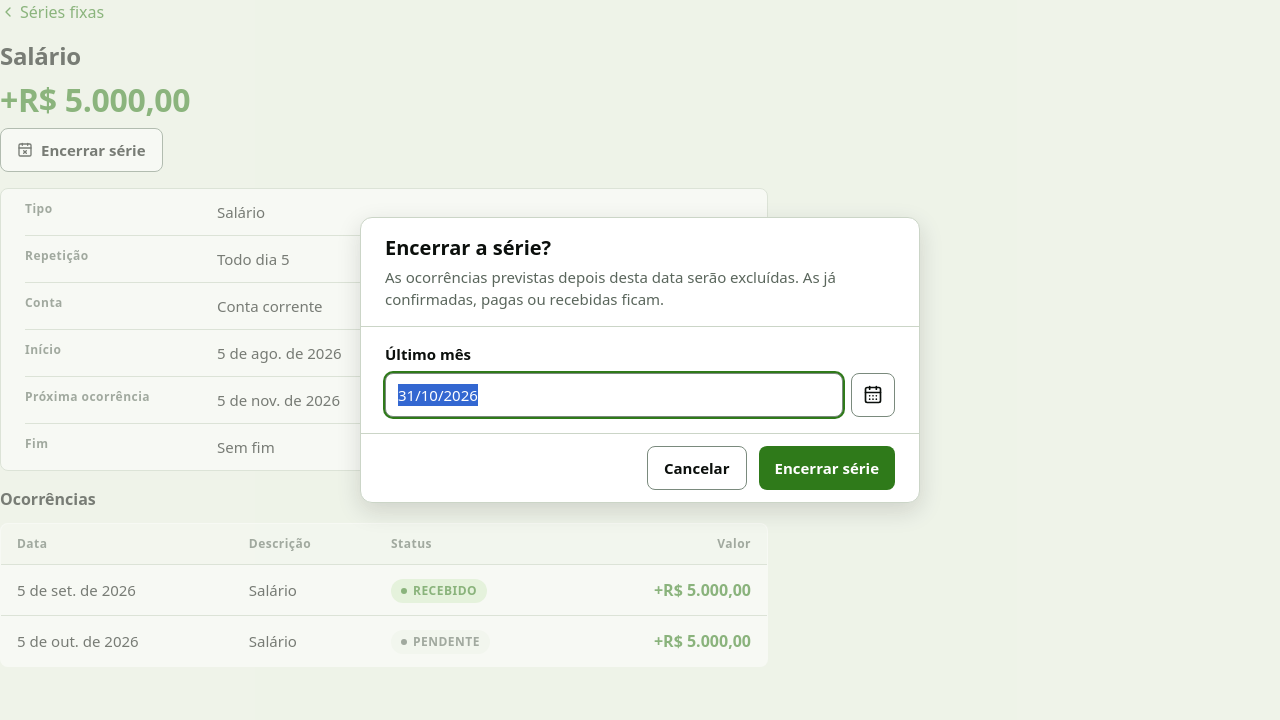
Test: EarningRecurrenceDetailPage (spec 0017) › keeps the dialog open with an alert on EARNING_RECURRENCE_NOT_FOUND
Click the button "Encerrar série" at [827, 468], box [758,446,895,490]
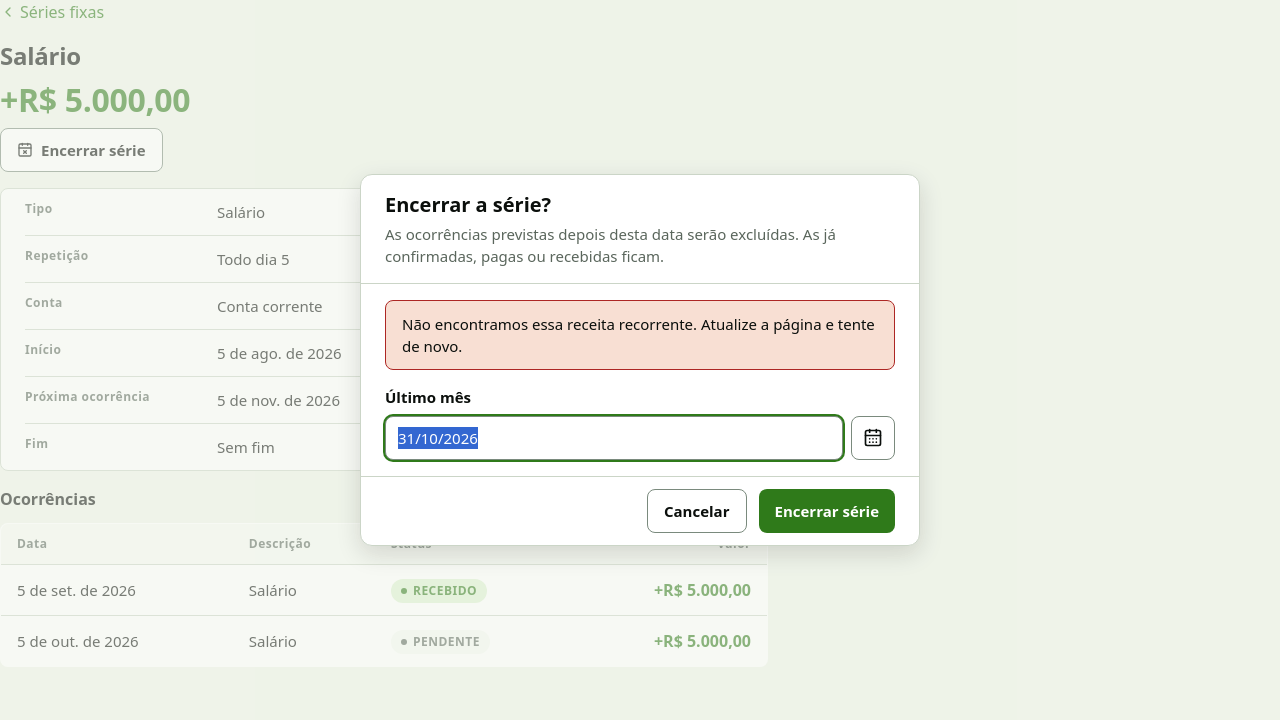
Expected: the dialog "Encerrar a série?" is shown, [360,174,920,546]
Result: the message "Não encontramos essa receita recorrente. Atualize a página e tente de novo." is shown at [385,300,895,370]
